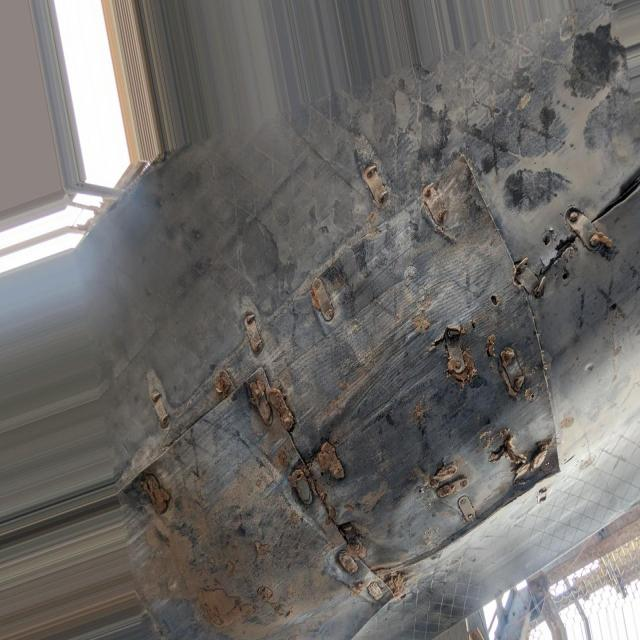patch work: (115, 154, 629, 625)
